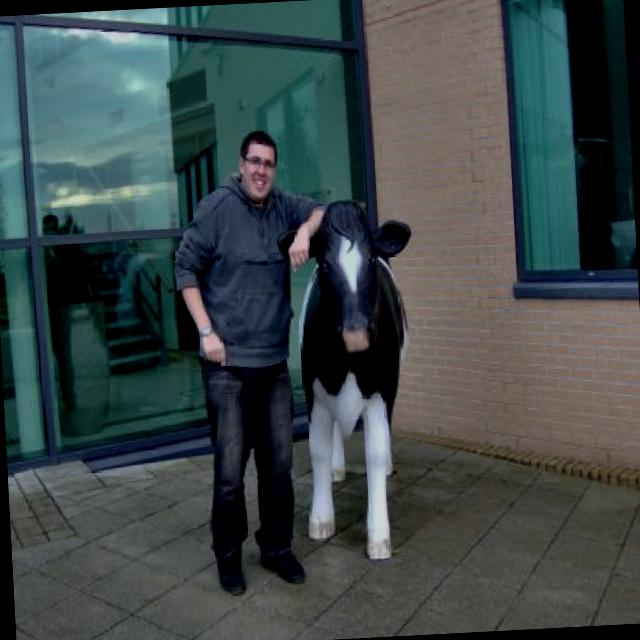Person: (167, 115, 323, 601)
